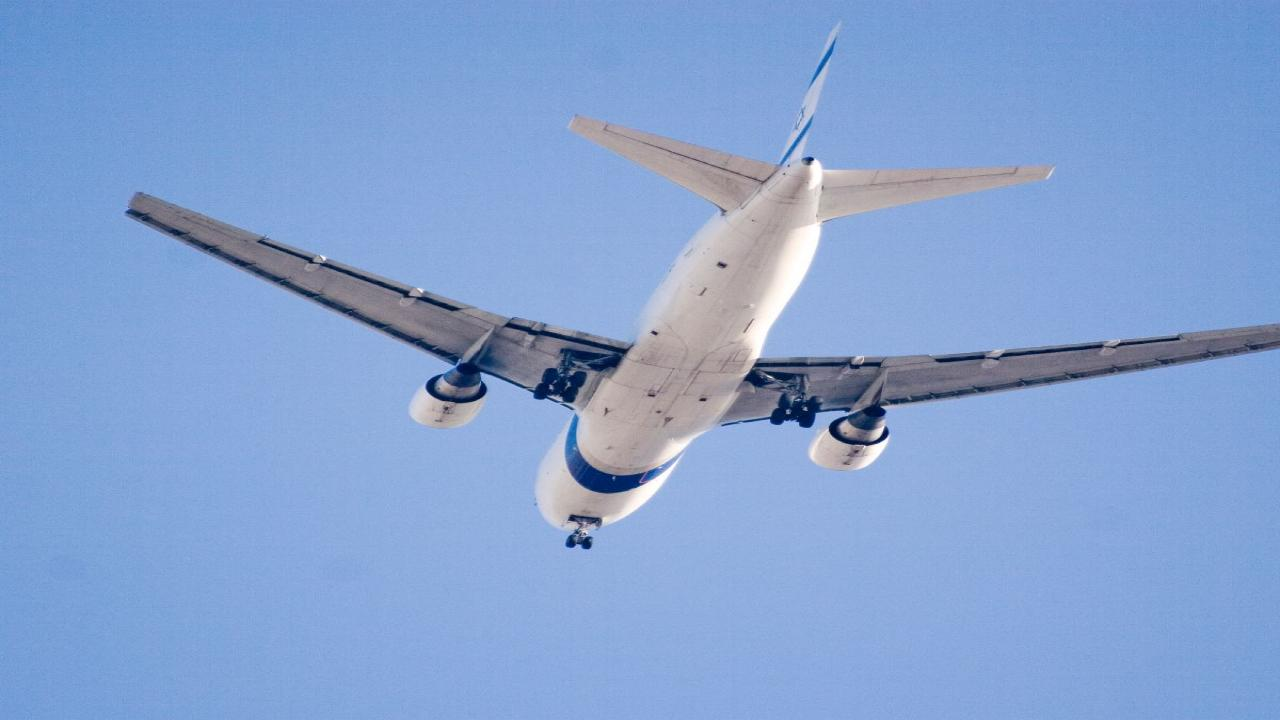Airplane: (103, 16, 1280, 563)
